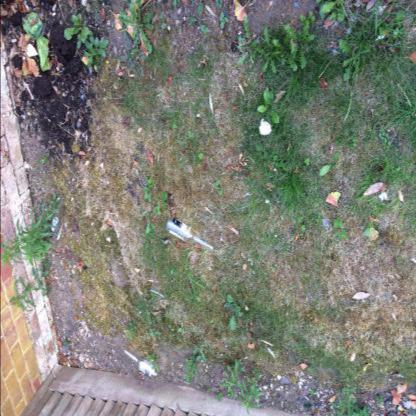Bottle cap: (165, 216, 213, 252), (123, 348, 157, 380), (49, 198, 64, 243)
Cigarette: (86, 135, 88, 142), (54, 276, 58, 279)
Plastic bag - wrapper: (322, 219, 329, 231)
Unlabeled litter: (259, 118, 272, 135), (150, 290, 165, 298), (376, 35, 386, 41), (385, 32, 392, 36)
